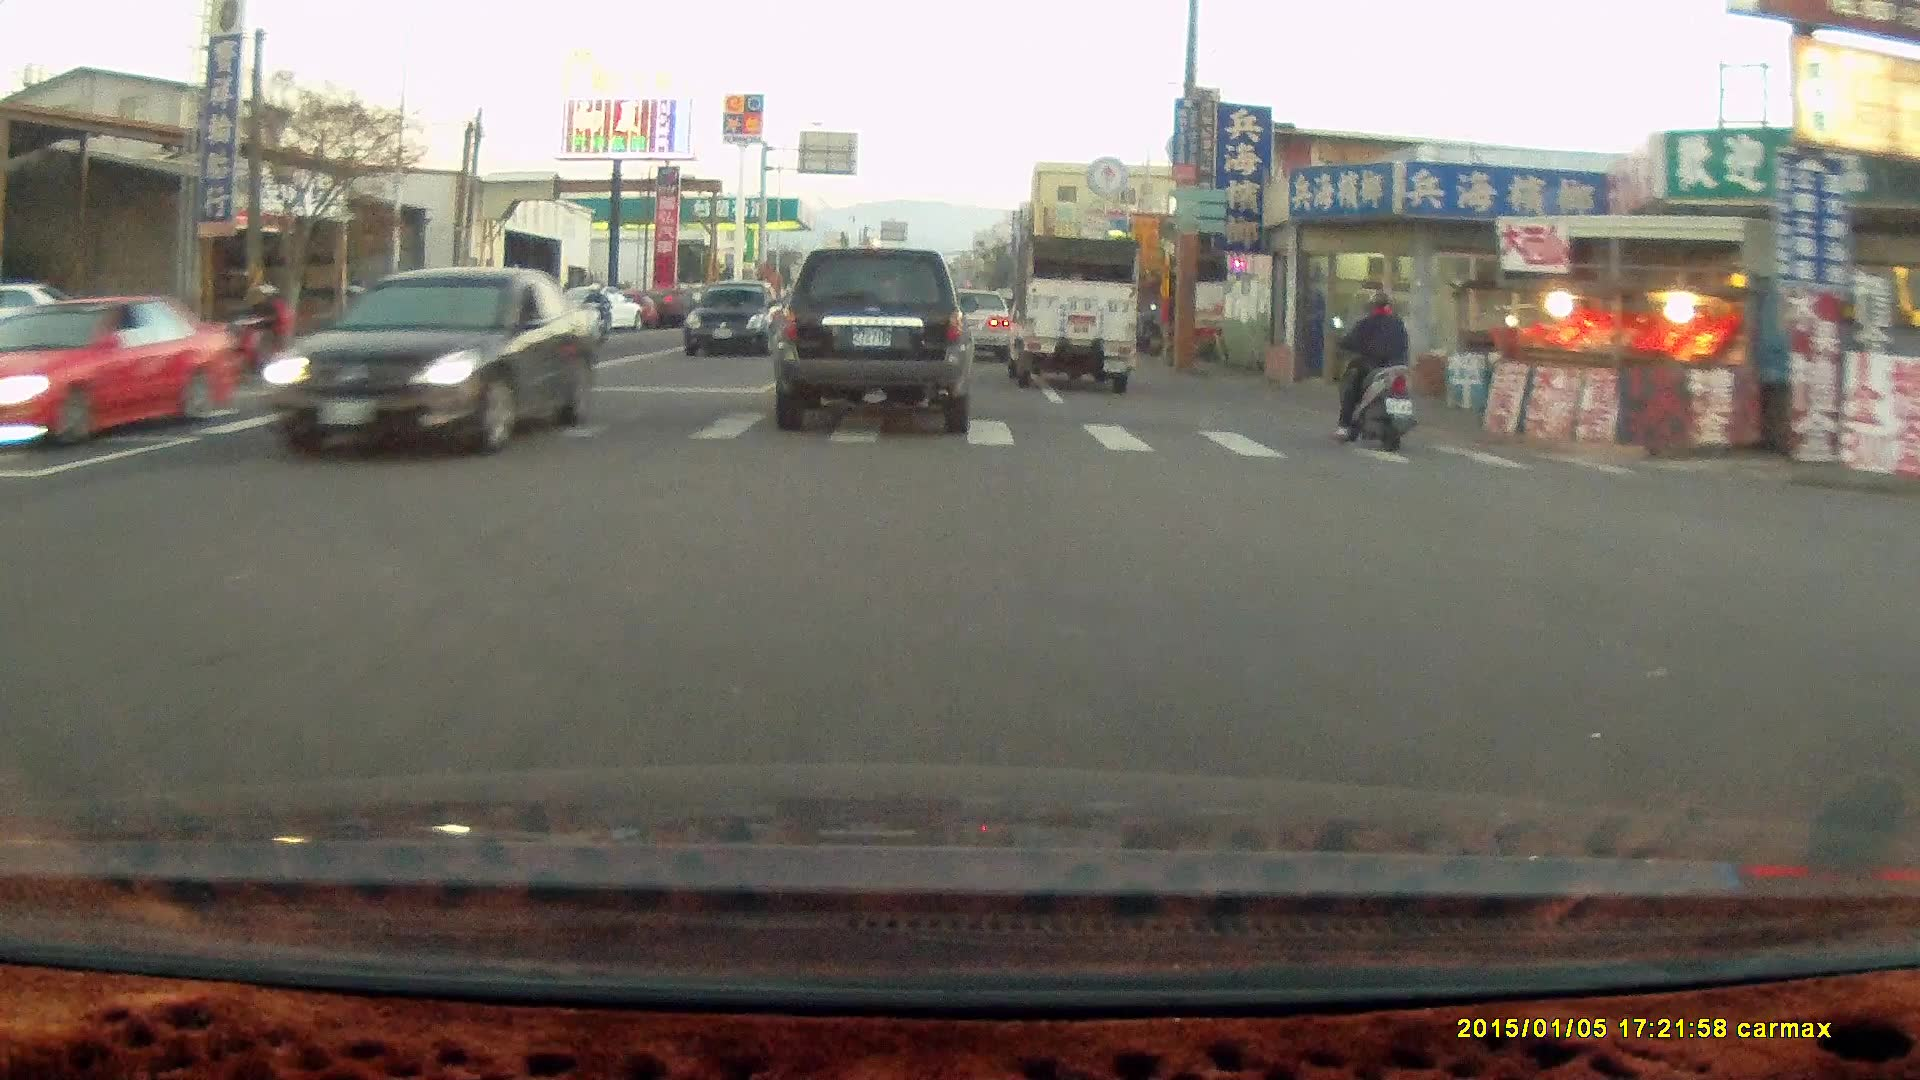rider: (1327, 287, 1418, 453), (222, 277, 291, 380), (570, 281, 610, 355)
vehicle: (258, 265, 604, 459), (1, 299, 258, 455), (772, 249, 979, 437), (1003, 233, 1141, 394), (1, 284, 120, 363), (683, 283, 783, 361), (934, 287, 1011, 362), (949, 289, 1020, 363)
